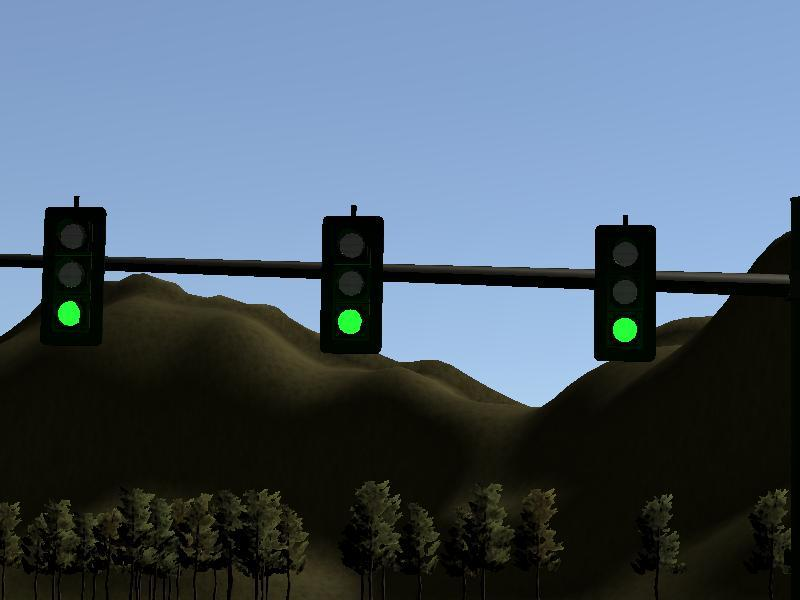Green: (43, 206, 104, 339), (595, 227, 656, 358), (323, 219, 381, 353)
